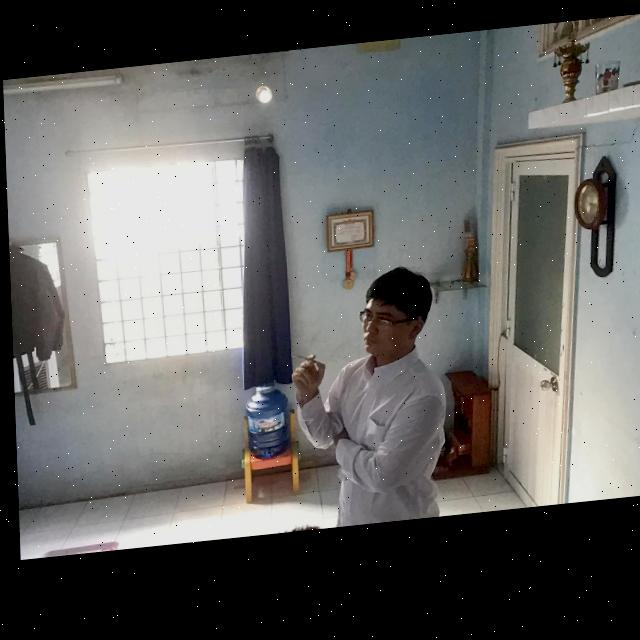cigarette: (288, 356, 323, 376)
